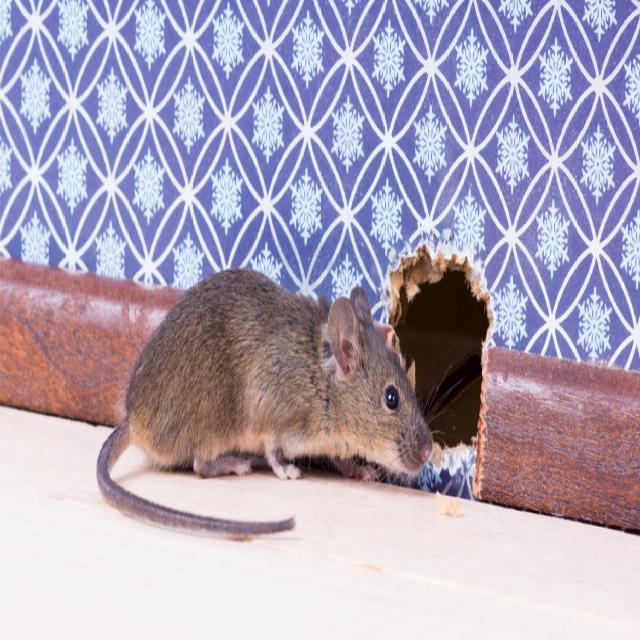rat: (77, 257, 440, 552)
